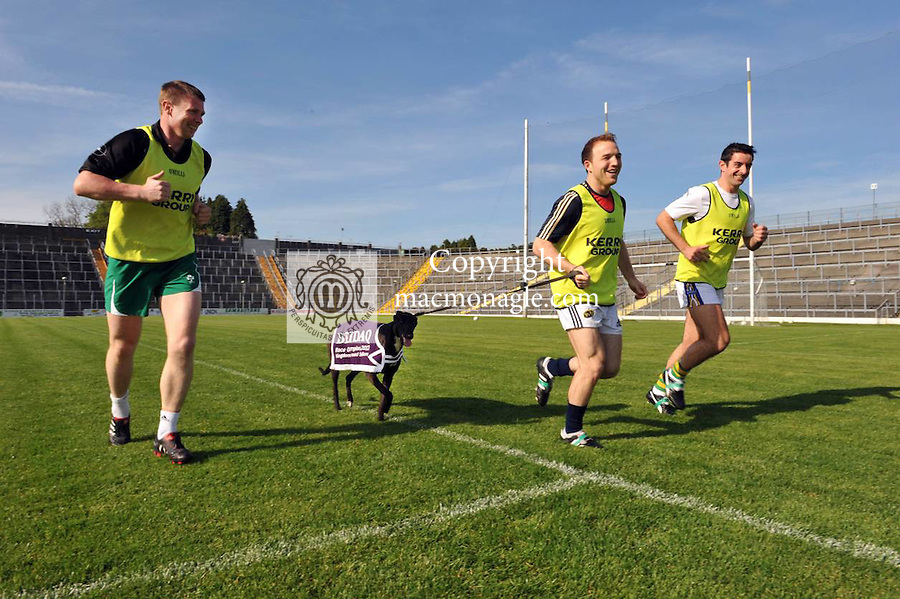player: (105, 73, 225, 443), (659, 115, 791, 414), (548, 121, 657, 419)
